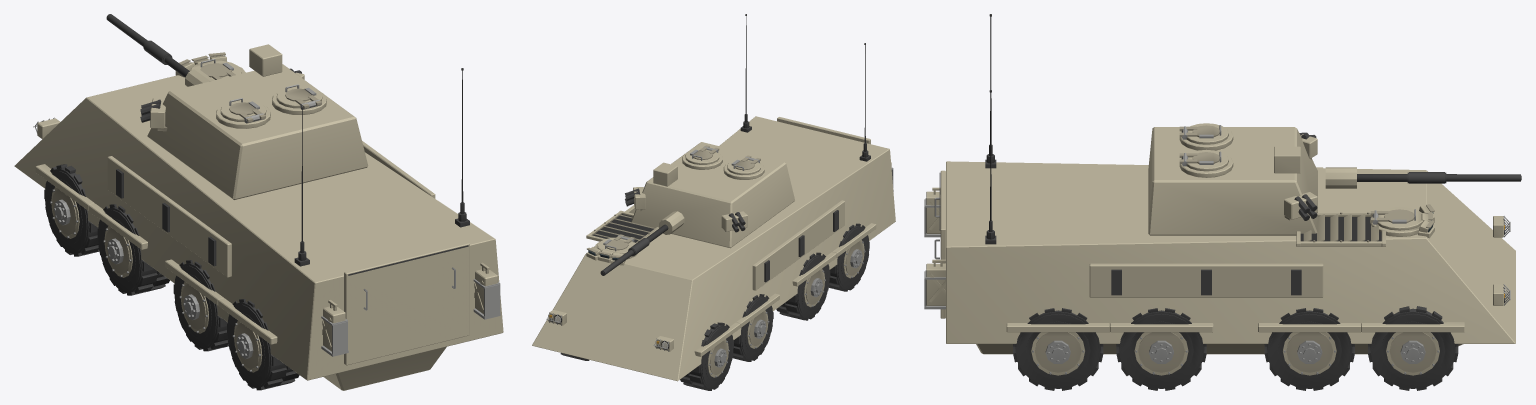
The model's file is usa_ifv_lav25.glb.
3 renders of one model, left to right at view 1: azimuth 30°, elevation 25°; view 2: azimuth 150°, elevation 25°; view 3: azimuth 270°, elevation 25°, orthographic. The views are drawn at different scales.
Visible parts, largest first — view 1: body, turret, door, wheel_2, wheel_6, wheel_0, wheel_4, barrel; view 2: body, turret, wheel_0, wheel_4, wheel_2, wheel_6, barrel, door; view 3: body, turret, wheel_1, wheel_5, wheel_7, wheel_3, barrel, door.
Part boxes in pixels (x1,y1,x2,y2): body: [14, 52, 503, 390]; turret: [140, 44, 368, 199]; door: [344, 242, 469, 365]; wheel_2: [97, 204, 169, 295]; wheel_6: [227, 299, 299, 390]; wheel_0: [44, 164, 99, 256]; wheel_4: [173, 260, 228, 351]; barrel: [106, 14, 213, 86]; body: [532, 14, 895, 381]; turret: [625, 142, 794, 248]; wheel_0: [680, 322, 733, 390]; wheel_4: [776, 252, 830, 320]; wheel_2: [732, 294, 773, 361]; wheel_6: [829, 223, 869, 291]; barrel: [600, 211, 684, 275]; door: [777, 117, 870, 144]; body: [924, 14, 1515, 354]; turret: [1148, 123, 1317, 235]; wheel_1: [1368, 306, 1458, 390]; wheel_5: [1116, 308, 1206, 390]; wheel_7: [1013, 308, 1103, 390]; wheel_3: [1264, 308, 1354, 390]; barrel: [1325, 167, 1521, 188]; door: [934, 170, 945, 318].
Size of the model in its own units: 2.66 by 3.59 by 6.65.
